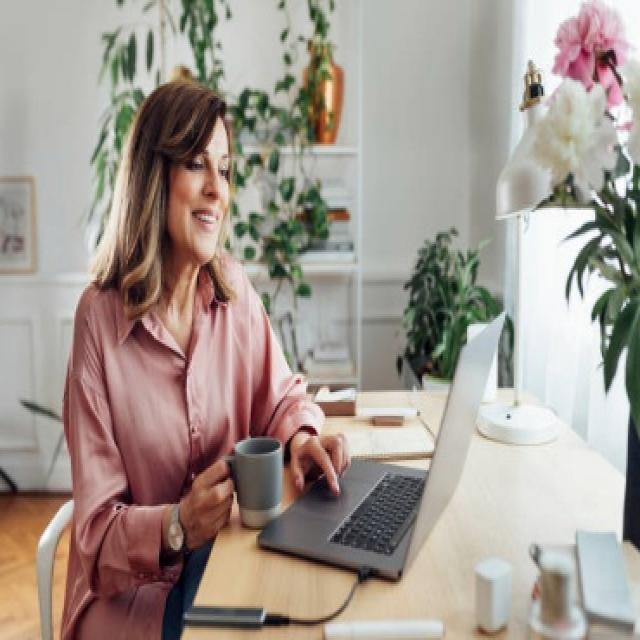adult: (52, 78, 354, 637)
